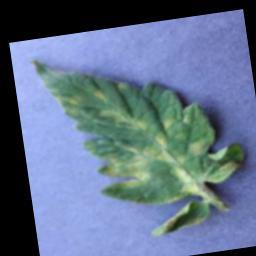Leaf_Mold: (28, 31, 250, 251)
